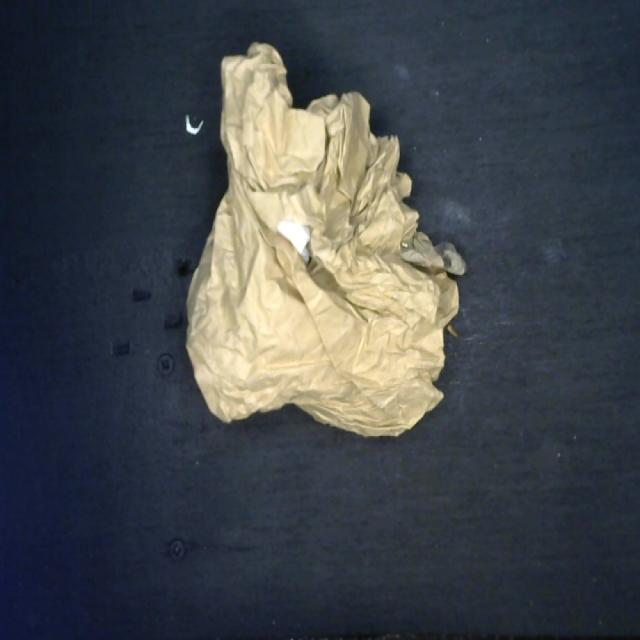biodegradable: (184, 35, 472, 448)
